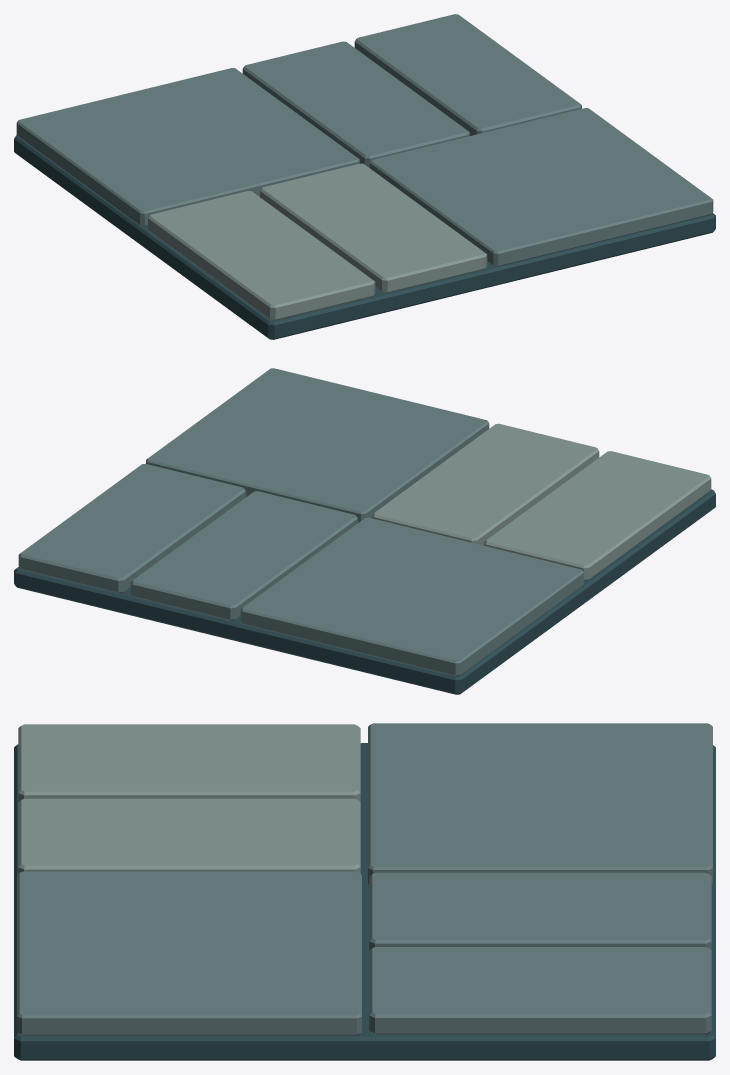
File: floor-cracked.glb
The picture shows the model from 3 angles, top to bottom: view 1: azimuth 30°, elevation 25°; view 2: azimuth 150°, elevation 25°; view 3: azimuth 270°, elevation 25°; orthographic projection. The views are drawn at different scales.
Parts seen in each view (by area): view 1: floor-cracked__body; view 2: floor-cracked__body; view 3: floor-cracked__body.
Part boxes in pixels (x1=…): floor-cracked__body: x1=14, y1=14, x2=715, y2=339; floor-cracked__body: x1=14, y1=368, x2=715, y2=694; floor-cracked__body: x1=14, y1=723, x2=715, y2=1060.
Size of the model in its own units: 2 by 0.14 by 2.
